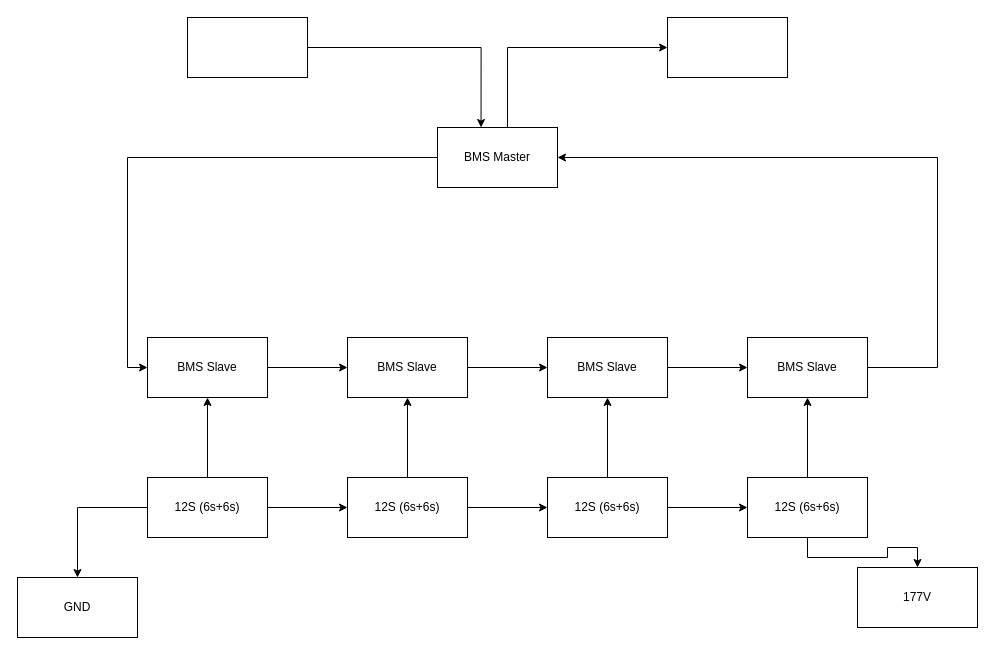
This 995x655 diagram has some shape labels left out. The shapes that lost their labels are listed below. From the top down, each one's centre as x and y in pixels, then its label:
point 247,47: Aux. power from LV Battery (6s)
point 727,47: Comm. Unit (Electronics)
